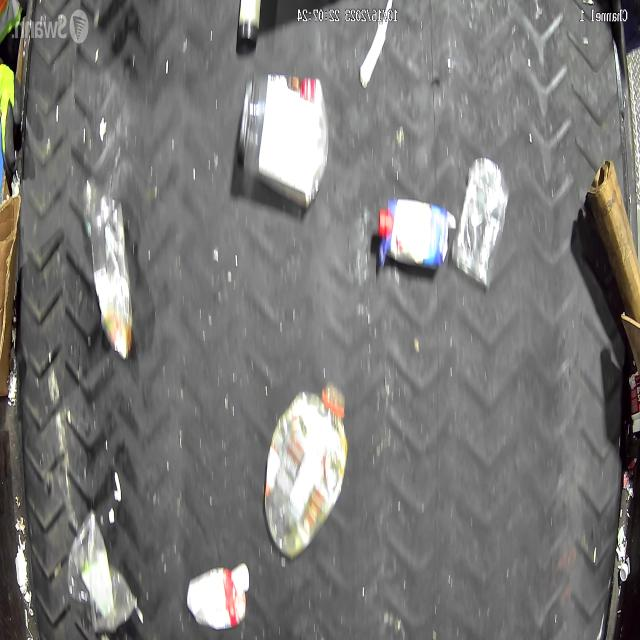plastic_bottle: (264, 380, 346, 556), (83, 174, 133, 359), (67, 510, 138, 636)
